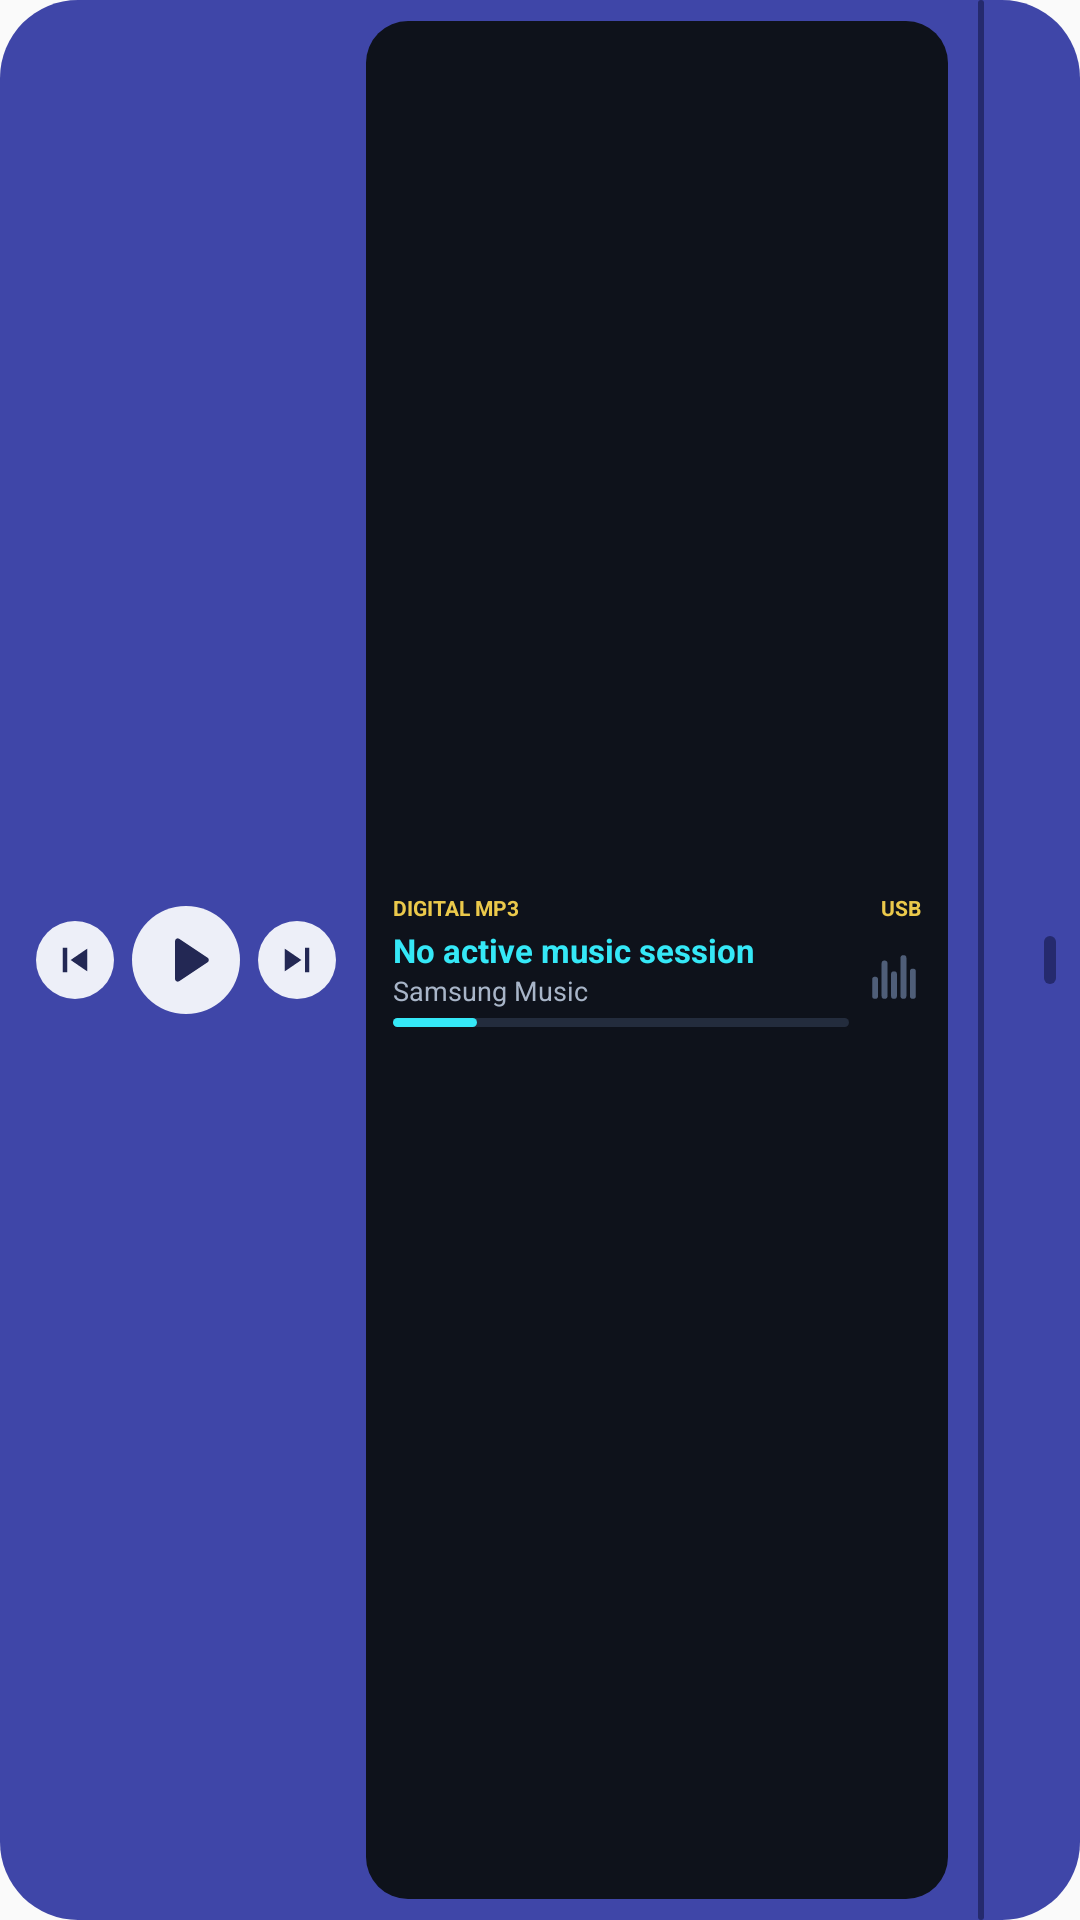

Point at icon controls on the screen. Image size 1080 × 1920, points as [x,y].
next: [297,960]
play: [186,960]
prev: [75,960]
